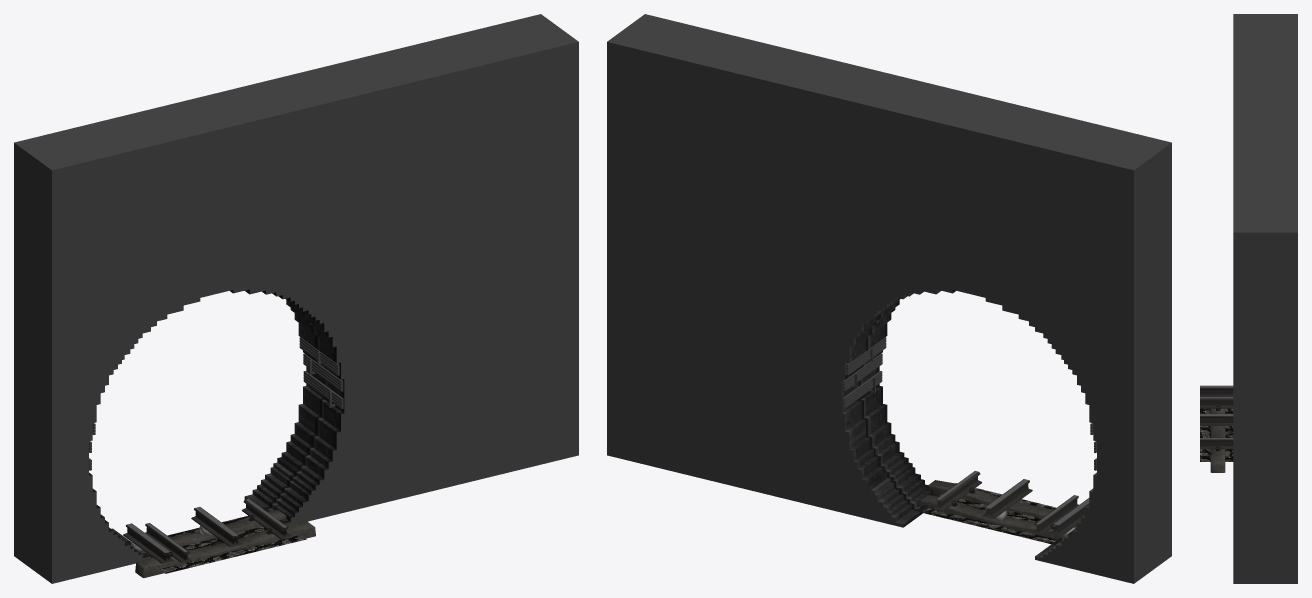
The model's file is lu_tunnel.obj.
3 views of the same model, side by side, from view 1: azimuth 30°, elevation 25°; view 2: azimuth 150°, elevation 25°; view 3: azimuth 270°, elevation 25° (orthographic). The views are drawn at different scales.
Visible parts, largest first — view 1: cube.001_cube.002_cube.001_cube.006, cube.001_cube.005_cube.001_cube.009, cube.001_cube.004_cube.001_cube.011, cube.001_cube.003_cube.001_cube.010, cube.001_cube.001, cube.055, cube.013, cube.004_cube.059, chris, Cylinder_Cylinder.002, cube.003_cube.058, cube.015 (+7 smaller); view 2: cube.001_cube.002_cube.001_cube.006, cube.001_cube.005_cube.001_cube.009, cube.001_cube.004_cube.001_cube.011, cube.001_cube.003_cube.001_cube.010, cube.001_cube.001, cube.055, cube.013, cube.004_cube.059, chris, cube.003_cube.058, cube.015, chris.001 (+7 smaller); view 3: cube.001_cube.004_cube.001_cube.011, cube.001_cube.002_cube.001_cube.006, Cylinder_Cylinder.002, cube.001_cube.005_cube.001_cube.009, cube.001_cube.003_cube.001_cube.010, Cylinder_Cylinder.001.
Part boxes in pixels (x1,y1,x2,y2): cube.001_cube.002_cube.001_cube.006: [14, 62, 381, 239]; cube.001_cube.005_cube.001_cube.009: [343, 46, 447, 503]; cube.001_cube.004_cube.001_cube.011: [475, 14, 578, 471]; cube.001_cube.003_cube.001_cube.010: [409, 30, 512, 487]; cube.001_cube.001: [14, 159, 381, 307]; cube.055: [14, 280, 117, 376]; cube.013: [14, 487, 117, 583]; cube.004_cube.059: [277, 418, 381, 519]; chris: [14, 349, 121, 445]; Cylinder_Cylinder.002: [123, 498, 315, 577]; cube.003_cube.058: [298, 350, 381, 445]; cube.015: [14, 418, 96, 514]; cube.001_cube.002_cube.001_cube.006: [804, 62, 1171, 239]; cube.001_cube.005_cube.001_cube.009: [738, 46, 842, 503]; cube.001_cube.004_cube.001_cube.011: [607, 14, 710, 471]; cube.001_cube.003_cube.001_cube.010: [673, 30, 776, 487]; cube.001_cube.001: [804, 159, 1171, 307]; cube.055: [1068, 280, 1171, 376]; cube.013: [1068, 487, 1171, 583]; cube.004_cube.059: [804, 418, 908, 519]; chris: [1064, 349, 1171, 445]; cube.003_cube.058: [804, 350, 887, 445]; cube.015: [1089, 418, 1171, 514]; chris.001: [804, 297, 900, 375]; cube.001_cube.004_cube.001_cube.011: [1233, 205, 1297, 583]; cube.001_cube.002_cube.001_cube.006: [1233, 14, 1297, 150]; Cylinder_Cylinder.002: [1200, 385, 1233, 472]; cube.001_cube.005_cube.001_cube.009: [1233, 150, 1297, 177]; cube.001_cube.003_cube.001_cube.010: [1233, 178, 1297, 205]; Cylinder_Cylinder.001: [1200, 408, 1233, 461].
Bounding box in the file's own units: 8 × 6.05 × 1.51.
Materials: 61 (61 with a texture image).
